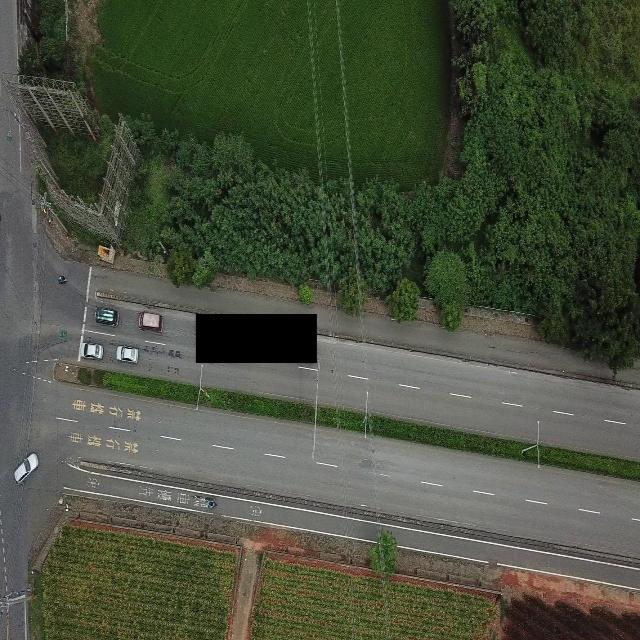bike: (198, 494, 219, 510), (59, 274, 68, 286)
car: (14, 452, 38, 485), (139, 310, 162, 330), (81, 341, 105, 360), (117, 345, 139, 364), (96, 307, 118, 325)
